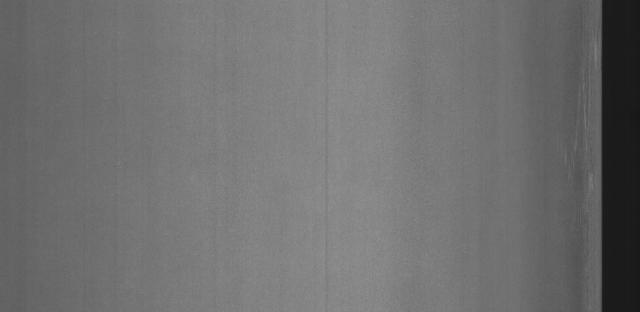silk_spot: (555, 47, 599, 204)
